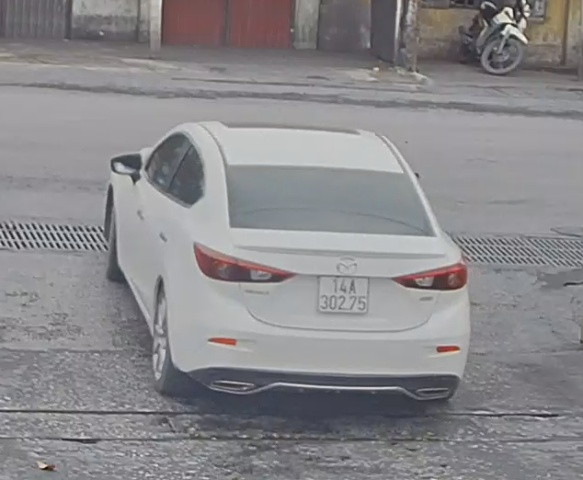vehicle plate: (312, 269, 376, 316)
